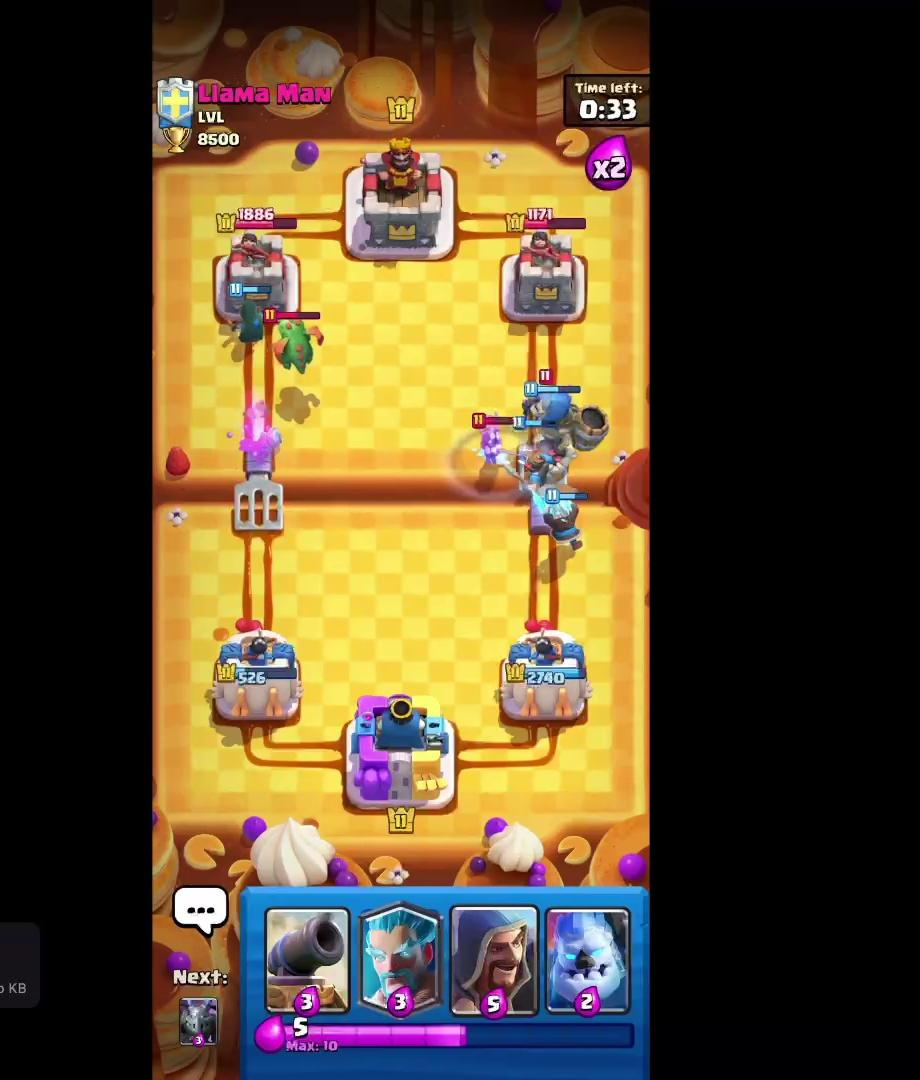Baby Dragon: (253, 306, 335, 379)
Valkyrie: (460, 396, 526, 484)
